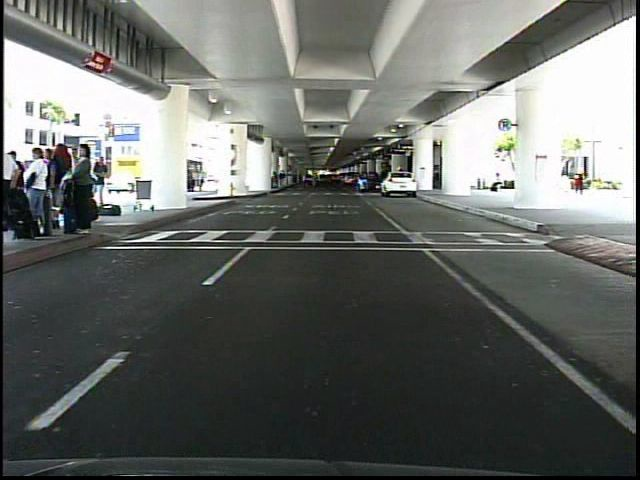person: (567, 161, 590, 200), (488, 167, 505, 199)
